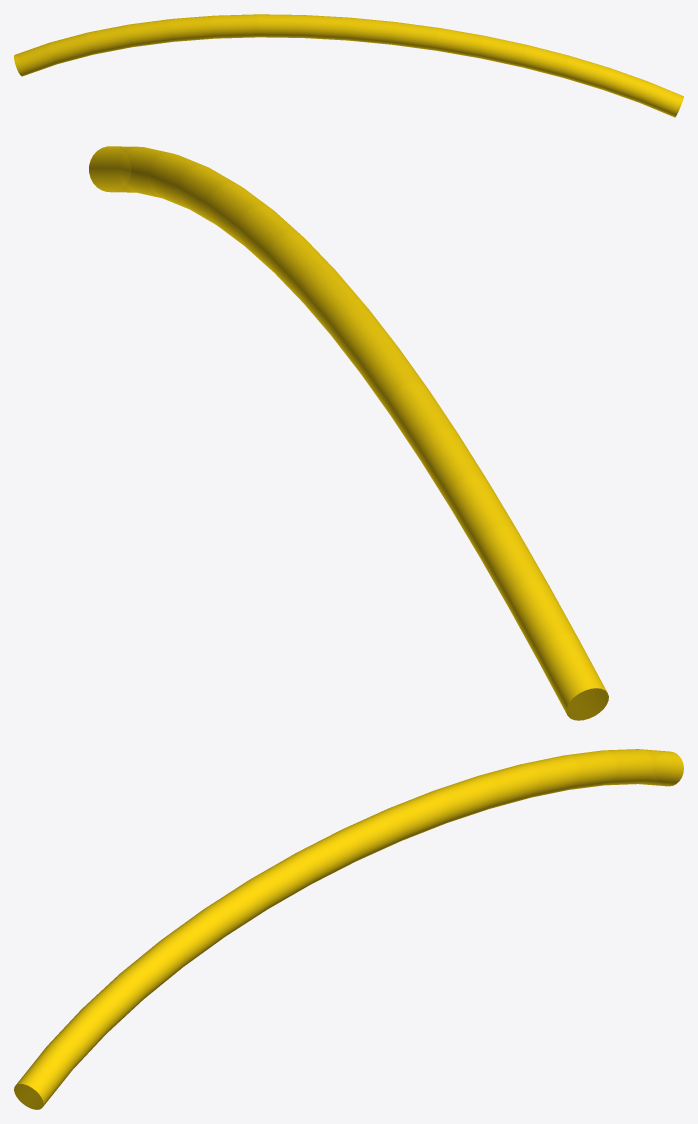
Rendered from Event_421115418_track_145.fbx.
3 views of the same model, one above another, from view 1: azimuth 30°, elevation 25°; view 2: azimuth 150°, elevation 25°; view 3: azimuth 270°, elevation 25° (orthographic). The views are drawn at different scales.
Parts seen in each view (by area): view 1: Model; view 2: Model; view 3: Model.
Part boxes in pixels (x1,y1,x2,y2): Model: (14,14,683,117); Model: (89,146,608,720); Model: (14,749,683,1109).
Bounding box in the file's own units: 0.9257 × 0.1512 × 0.7647.
